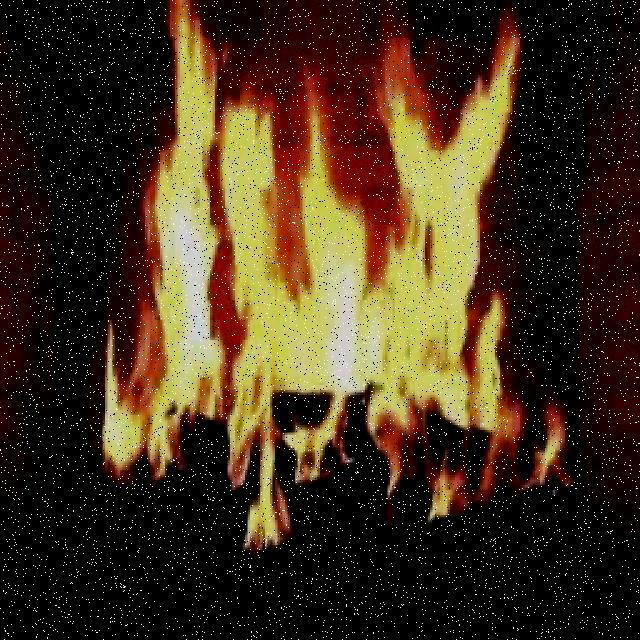Fire: (120, 73, 518, 479)
